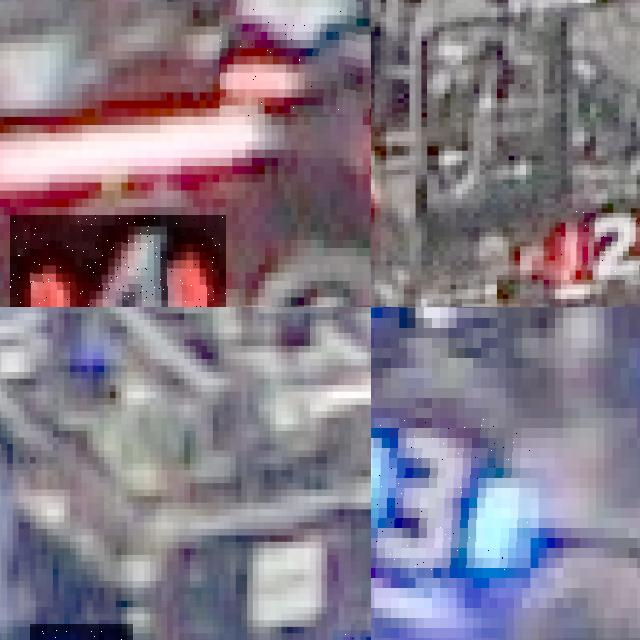B3: (371, 418, 530, 578)
R2: (560, 208, 640, 279)
R4: (10, 215, 225, 307), (219, 0, 356, 116)
